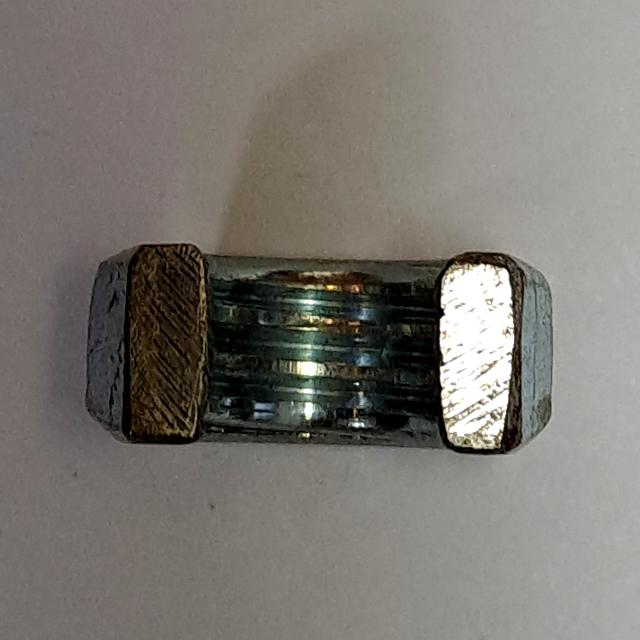Side-Fracture: (74, 216, 567, 478)
